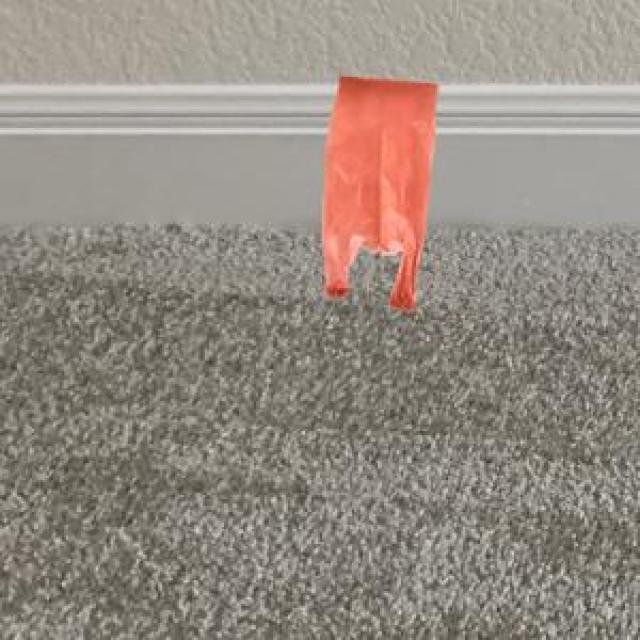waste: (324, 76, 438, 311)
